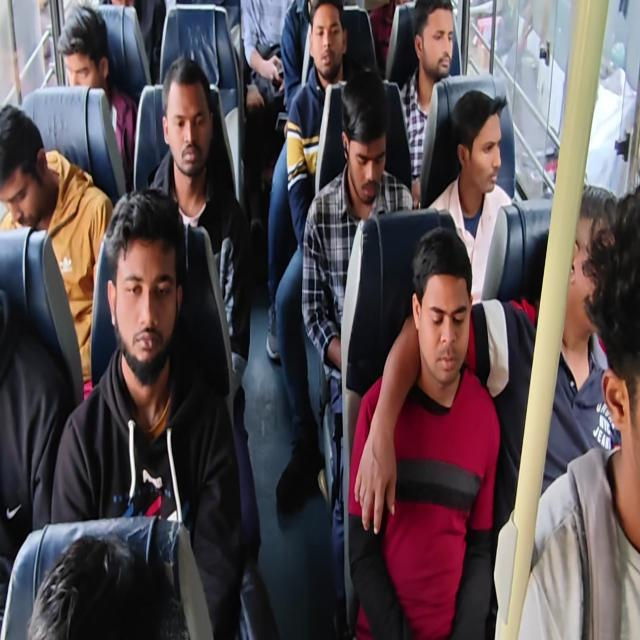person: (32, 532, 198, 640), (591, 188, 640, 490), (106, 192, 182, 377), (405, 227, 478, 387), (156, 50, 219, 189), (332, 70, 397, 201), (566, 178, 615, 340), (2, 92, 53, 239), (50, 7, 121, 96), (447, 86, 507, 189), (412, 0, 458, 85), (303, 4, 349, 75)
